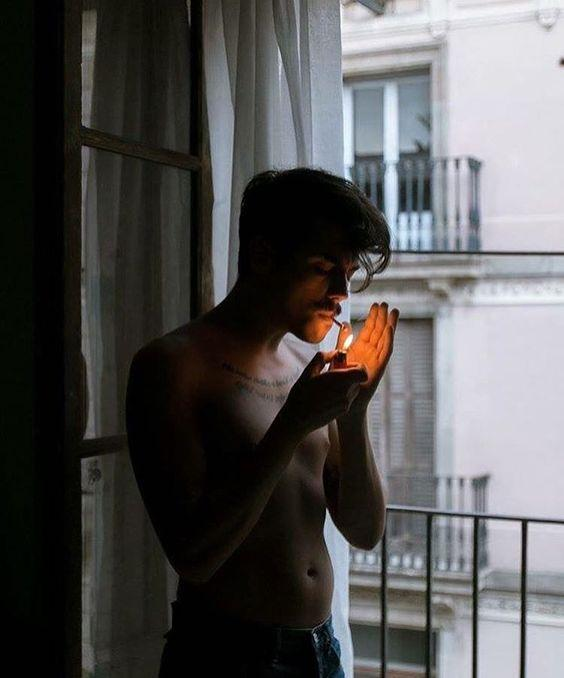cigarette: (332, 318, 348, 332)
